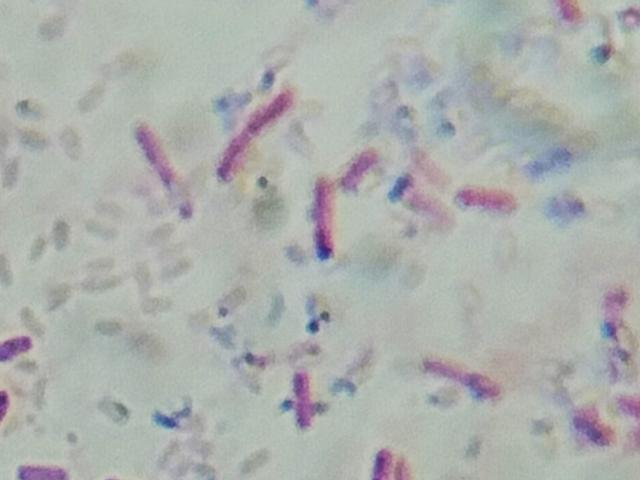E. coli: (206, 90, 298, 197), (123, 120, 180, 208), (413, 353, 496, 398), (357, 434, 419, 480), (306, 173, 338, 248), (285, 362, 314, 432), (451, 180, 513, 211), (15, 449, 71, 480), (339, 139, 376, 185), (569, 410, 612, 449), (548, 0, 592, 29), (0, 329, 38, 360), (612, 387, 640, 421), (0, 379, 17, 432), (563, 87, 565, 90)
